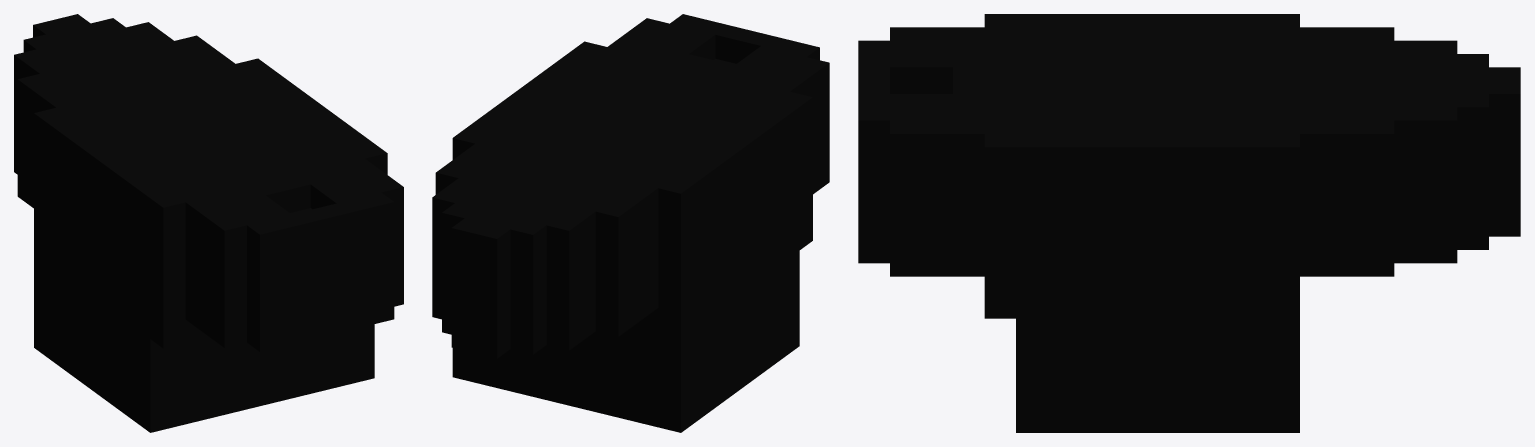
File: Anvil.gltf
3 views of the same model, side by side, from view 1: azimuth 30°, elevation 25°; view 2: azimuth 150°, elevation 25°; view 3: azimuth 270°, elevation 25° (orthographic). The views are drawn at different scales.
Parts seen in each view (by area): view 1: Layer.1; view 2: Layer.1; view 3: Layer.1.
Part boxes in pixels (box(x1,y1,x2,y2)): Layer.1: box(14, 14, 403, 432); Layer.1: box(432, 14, 829, 432); Layer.1: box(858, 14, 1520, 432).
Bounding box in the file's own units: 10 × 10 × 21.
1 material, 1 textured.
